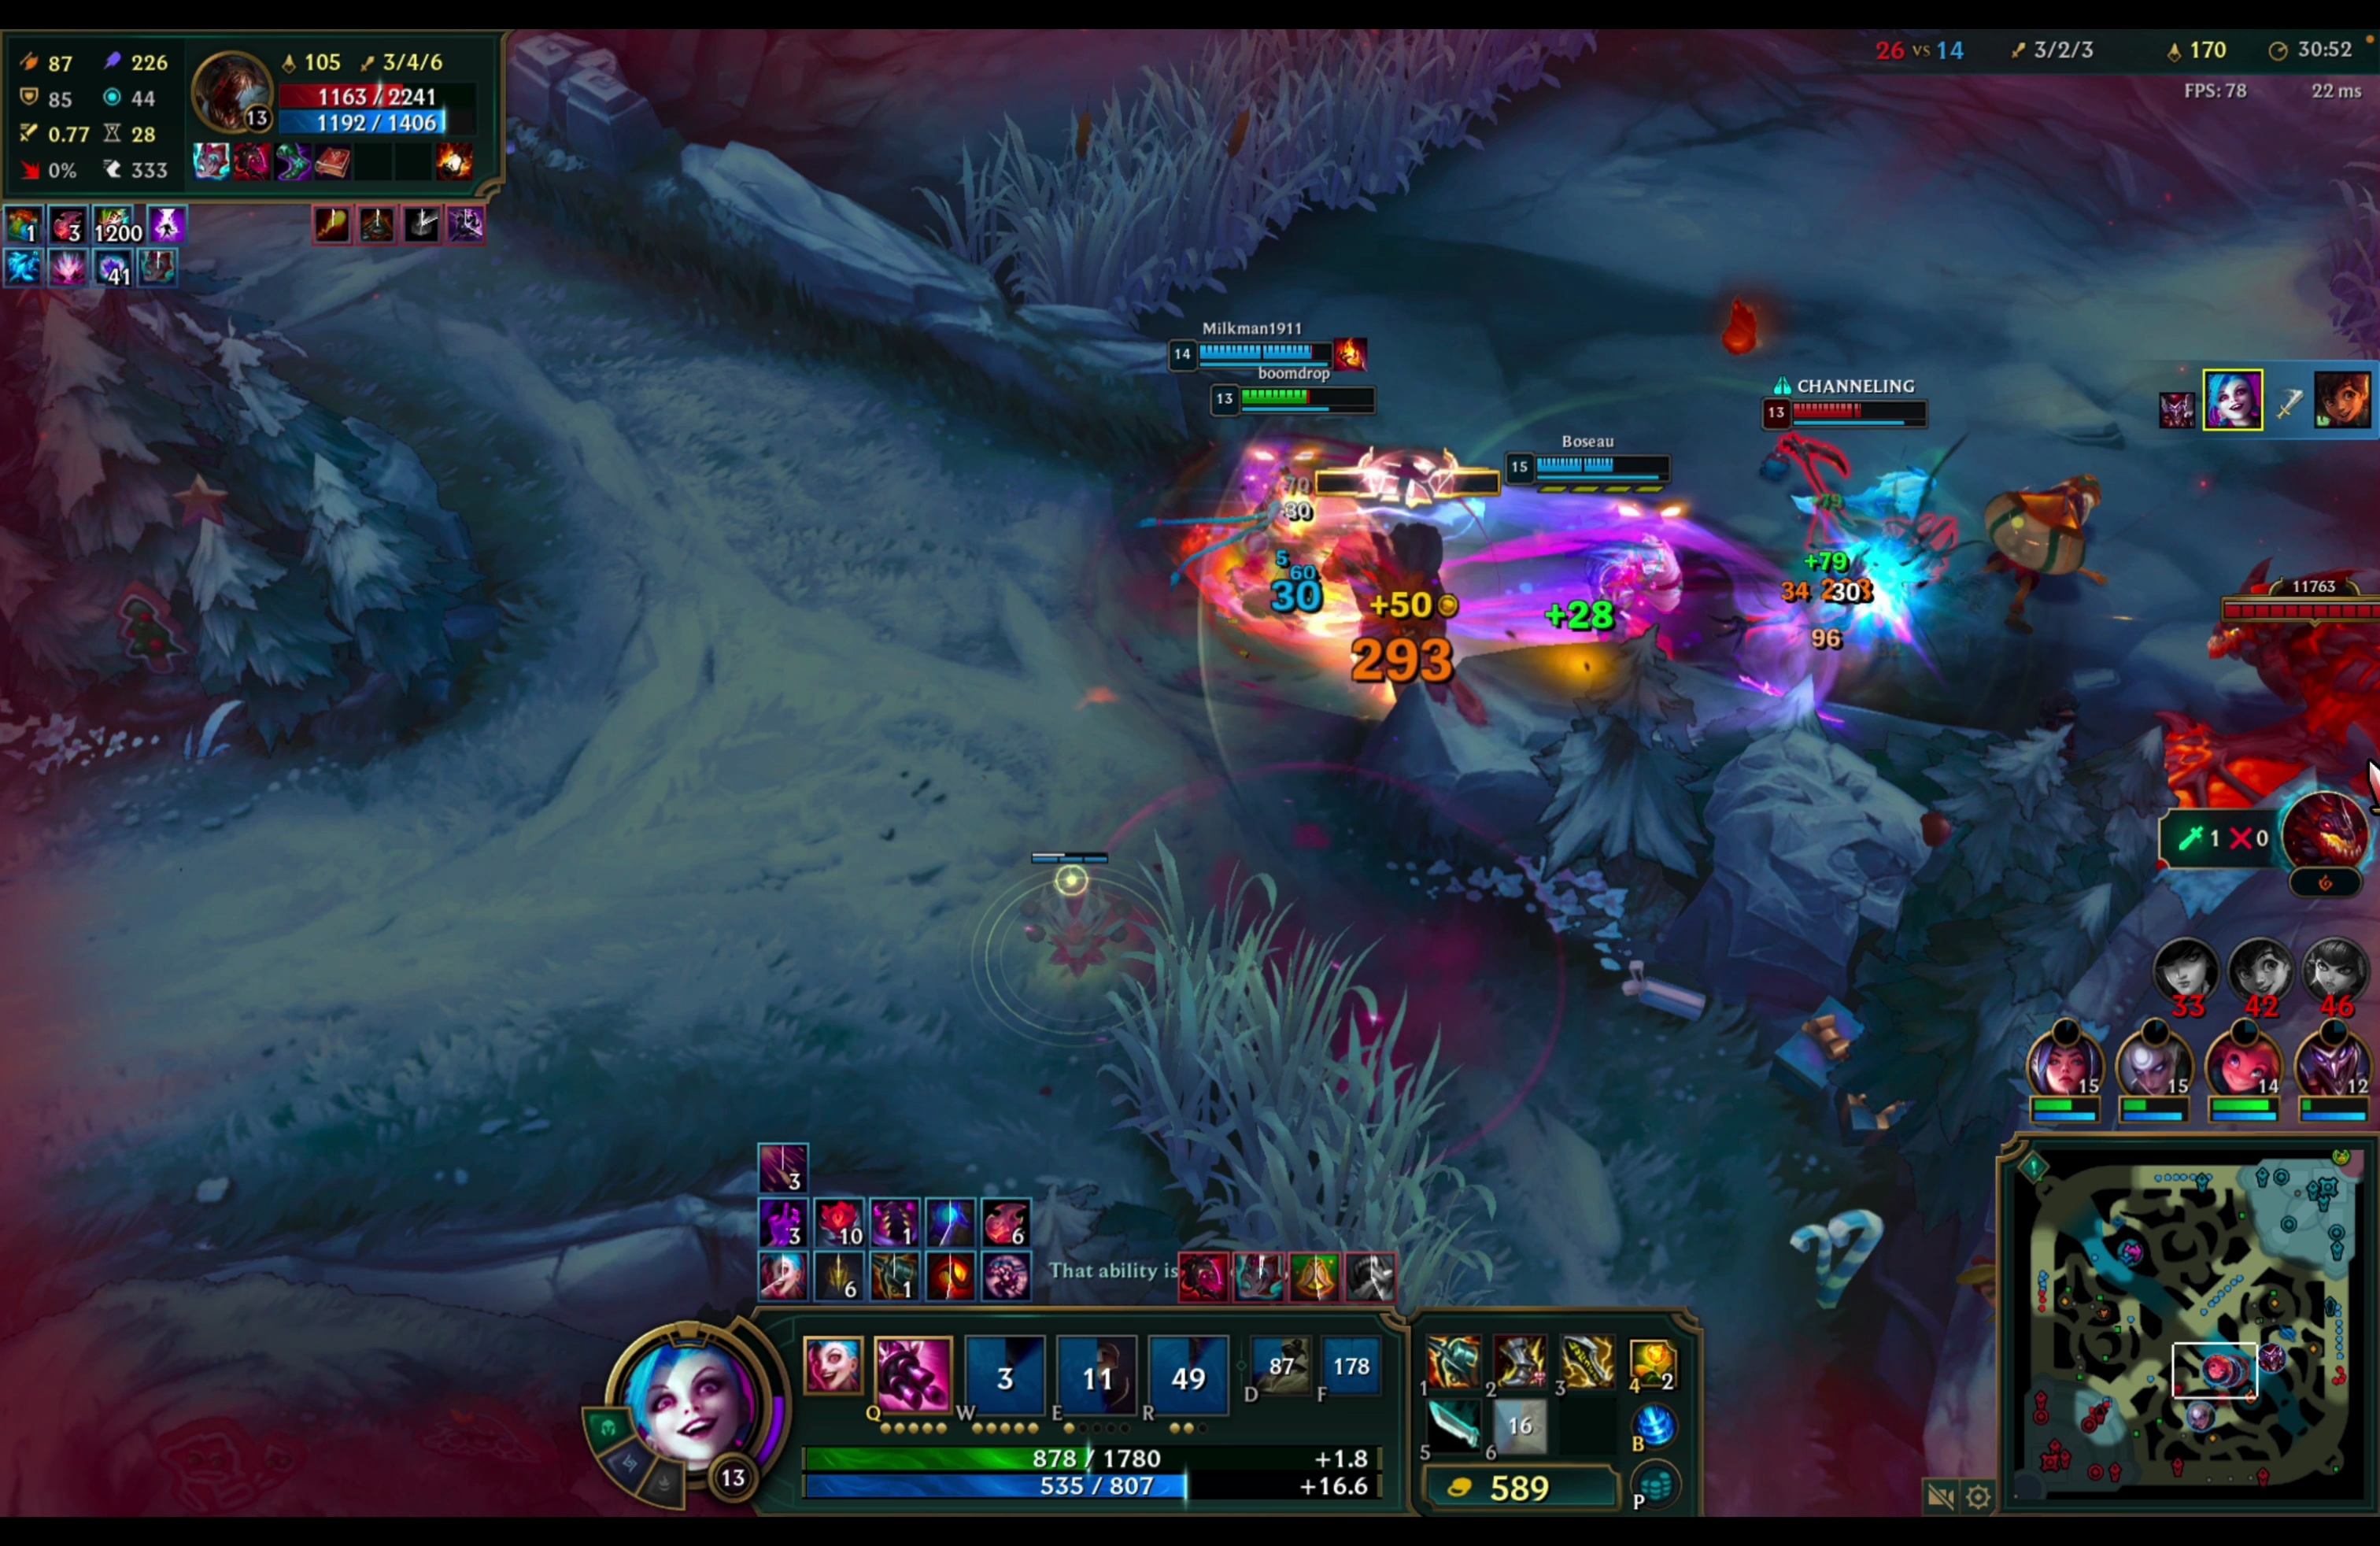JINX_W_PROJECTILE: (1199, 375, 1525, 652)
